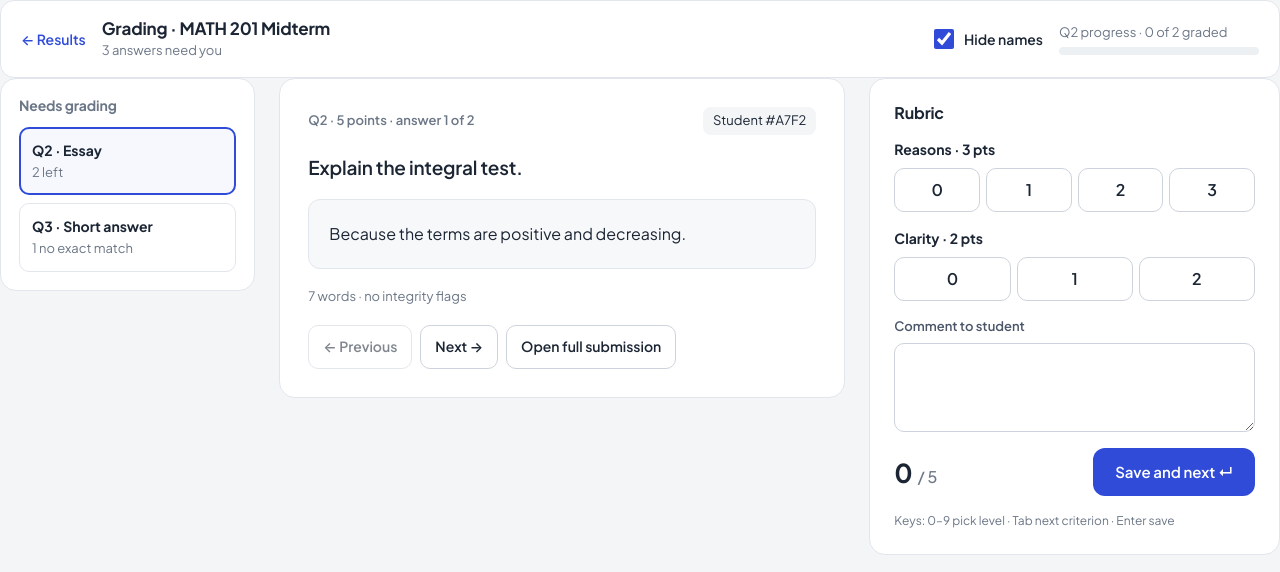
Test: GradingPage › sums rubric levels into the total and saves, then moves to the next answer
Expected: the text "Student #A7F2" is shown, [703, 107, 816, 134]
Expected: the text "0 of 2 graded" is shown, [1059, 24, 1228, 40]
Click the button named "Reasons: 2 of 3" at (1121, 190), box [1078, 168, 1163, 212]
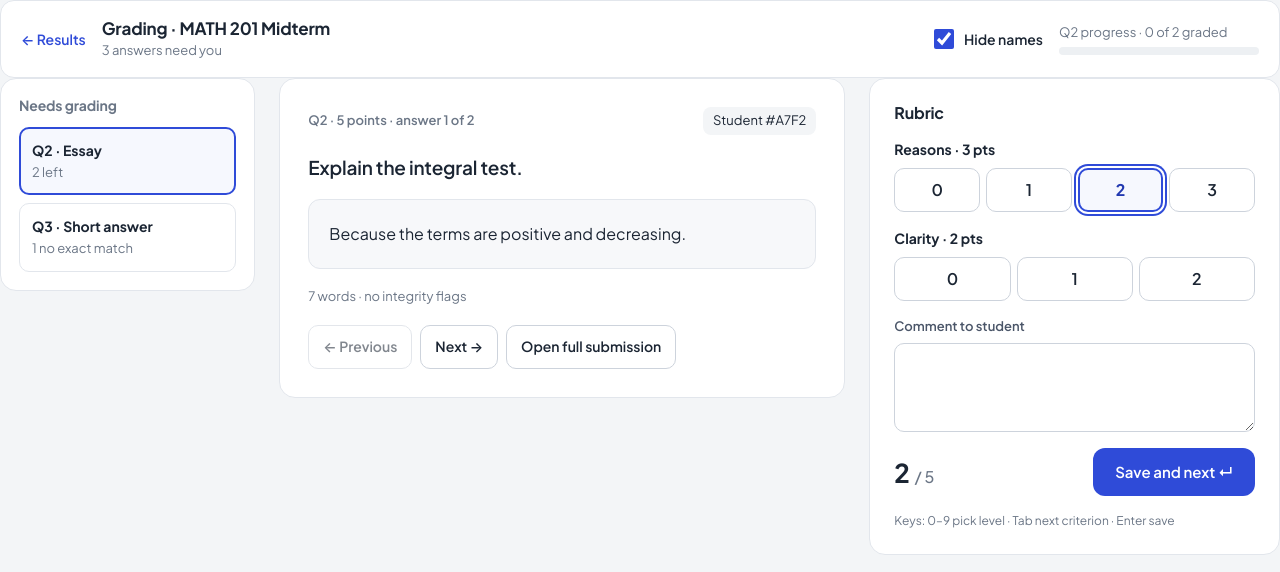
Click the button named "Clarity: 1 of 2" at (1075, 279), box [1016, 257, 1133, 301]
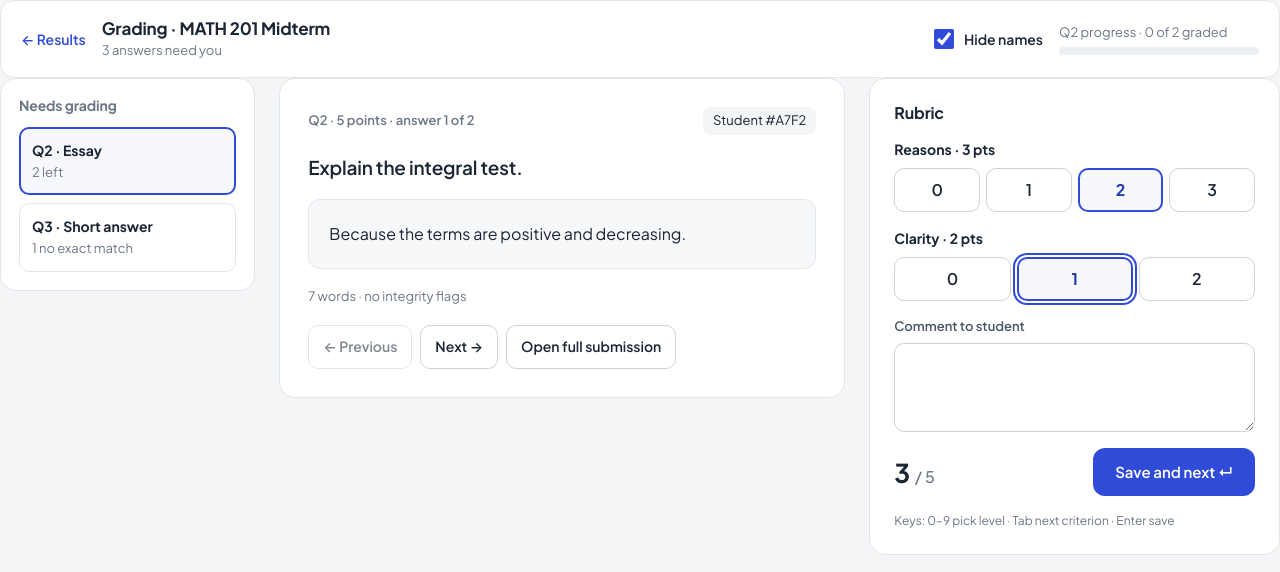
Expected: the element named "Total 3 of 5" is shown, [894, 452, 935, 492]
Type "Good start" into the text box labelled "Comment to student" at (1075, 387), box [894, 342, 1255, 432]
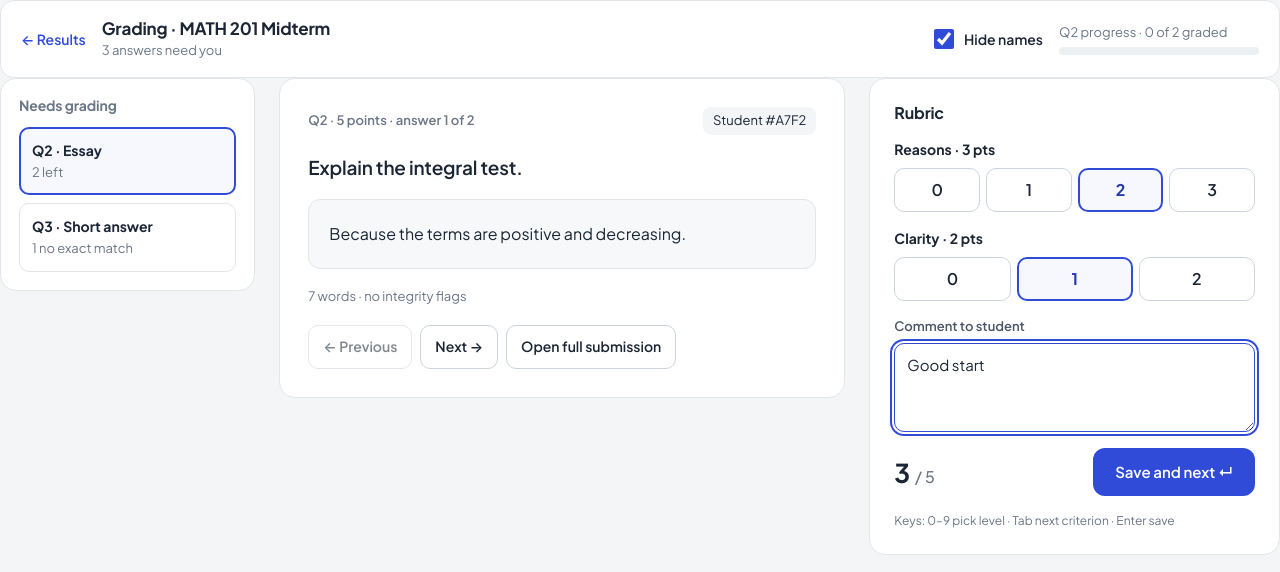
Click the button "Save and next ↵" at (1174, 472), box [1093, 448, 1255, 496]
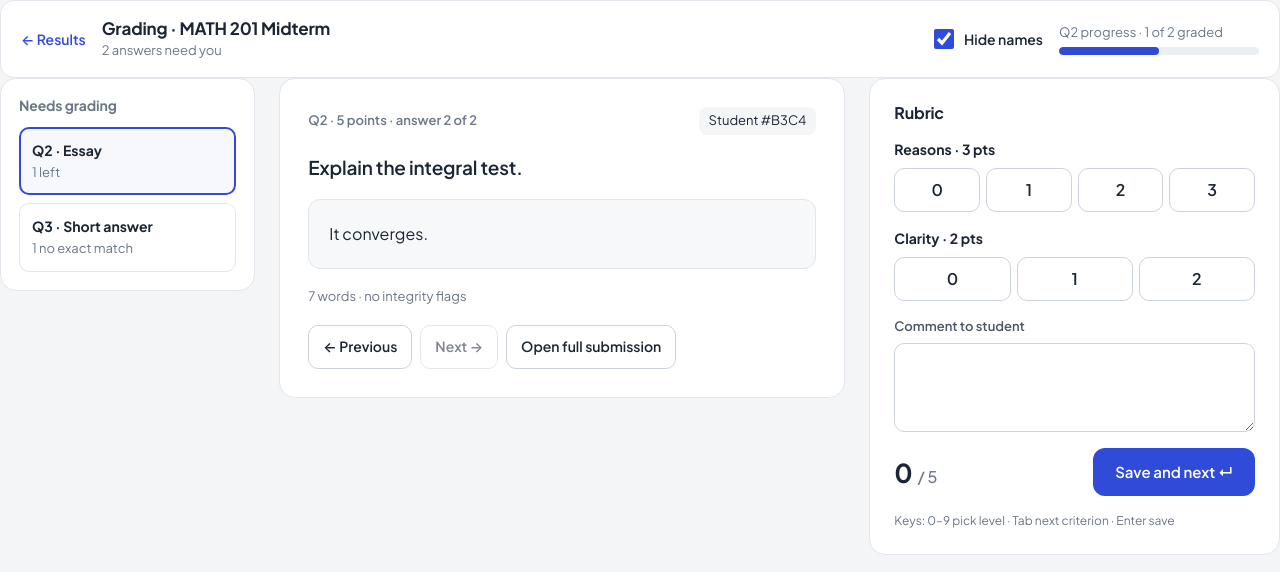
Expected: the text "Student #B3C4" is shown, [698, 107, 816, 134]
Expected: the text "1 of 2 graded" is shown, [1059, 24, 1223, 40]
Expected: the element named "Total 0 of 5" is shown, [894, 452, 937, 492]
